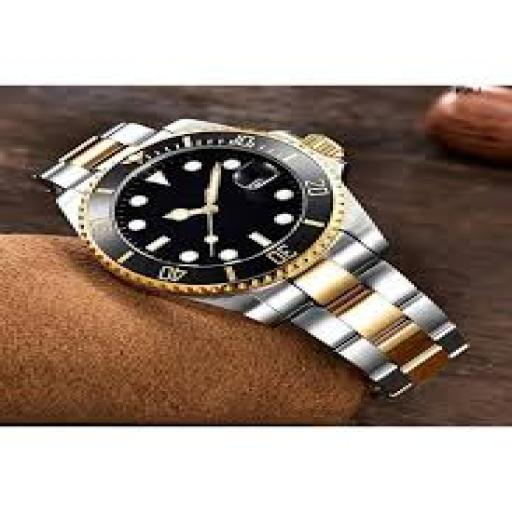KolSaati: (19, 98, 494, 405)
